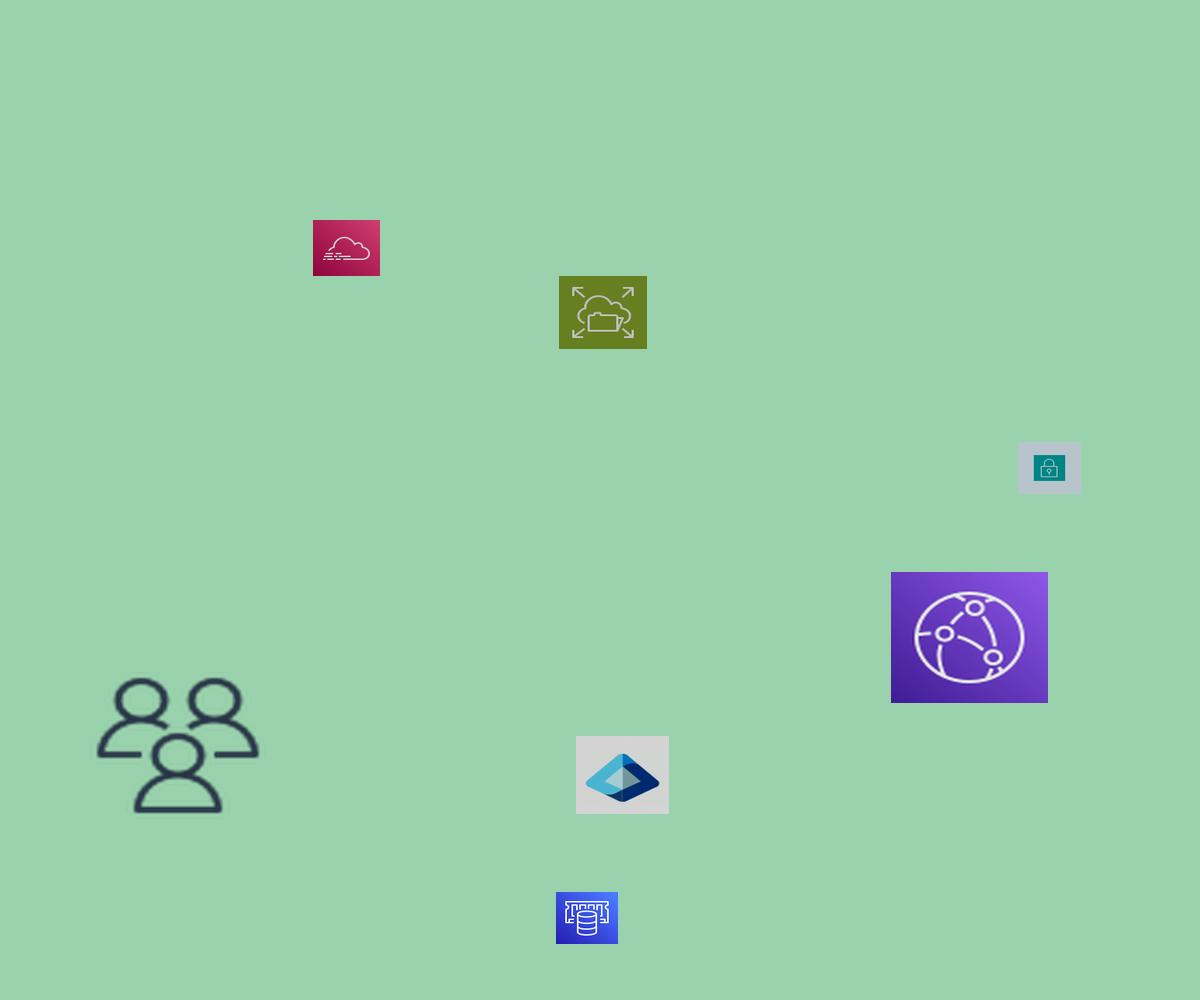AWS-CloudFront: (891, 572, 1048, 703)
AWS-CloudTrail: (313, 220, 380, 276)
AWS-EFS: (559, 276, 647, 349)
AWS-ElastiCache: (556, 892, 618, 944)
AWS-Private-subnet: (1018, 442, 1081, 494)
AWS-Res_Users: (90, 672, 266, 819)
Azure_microsoft_entra: (576, 736, 669, 814)
